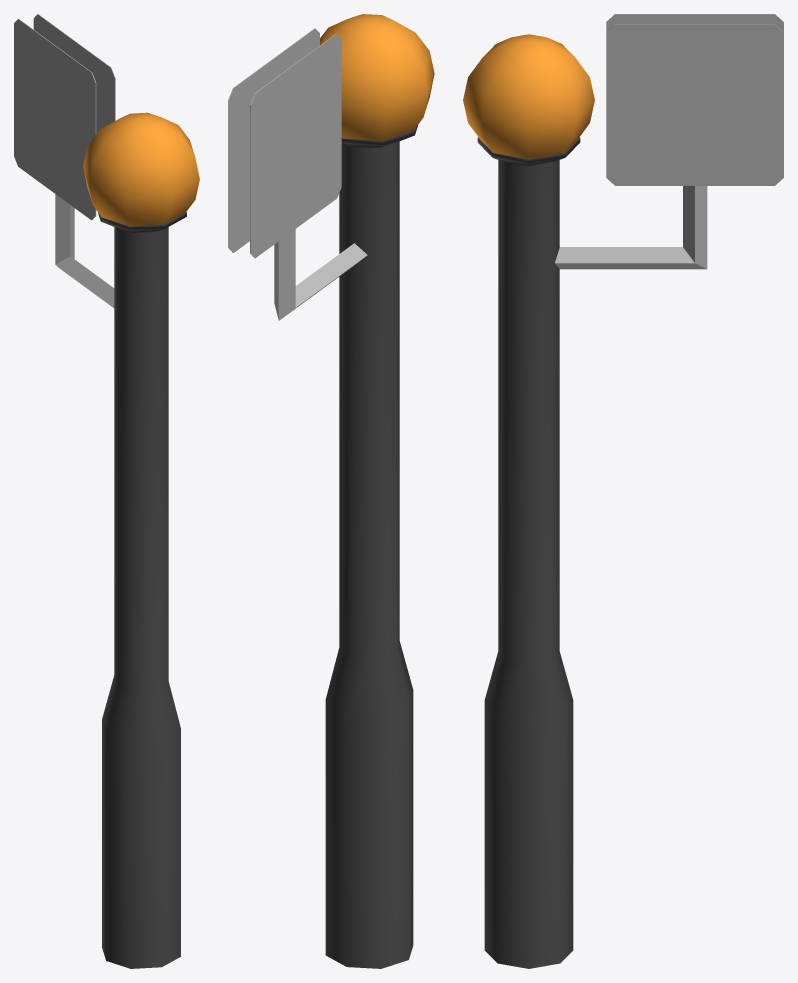
Rendered from zebracrossingSign.fbx.
The picture shows the model from 3 angles, left to right: view 1: azimuth 30°, elevation 25°; view 2: azimuth 150°, elevation 25°; view 3: azimuth 270°, elevation 25°; orthographic projection. The views are drawn at different scales.
Parts seen in each view (by area): view 1: pCube422; view 2: pCube422; view 3: pCube422.
Boxes of the visible parts, bbox=[...] form: pCube422: bbox=[14, 14, 199, 968]; pCube422: bbox=[228, 14, 434, 968]; pCube422: bbox=[463, 14, 783, 968].
Size of the model in its own units: 44.53 by 346 by 108.
